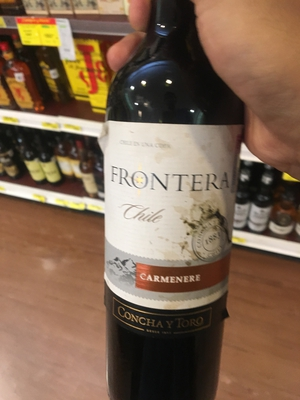frontera carmenere: (92, 8, 263, 400)
